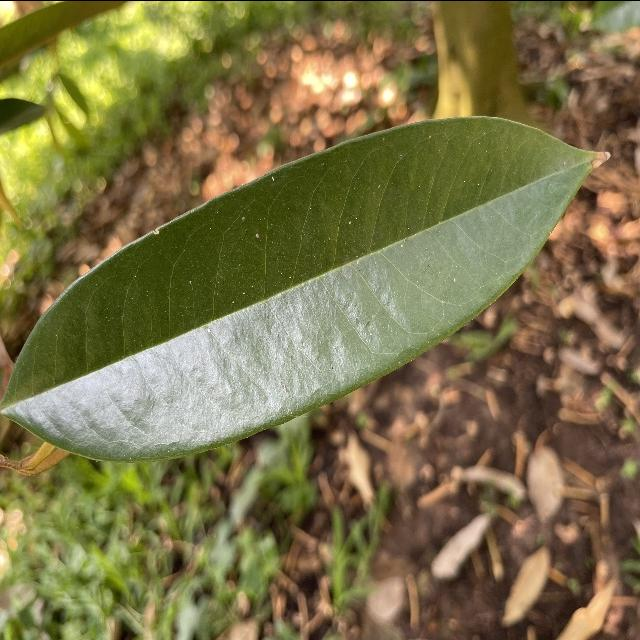No Disease: (0, 110, 612, 469)
